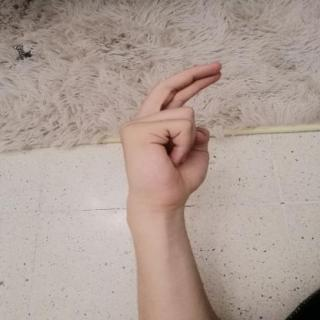ZAY: (110, 55, 236, 220)
